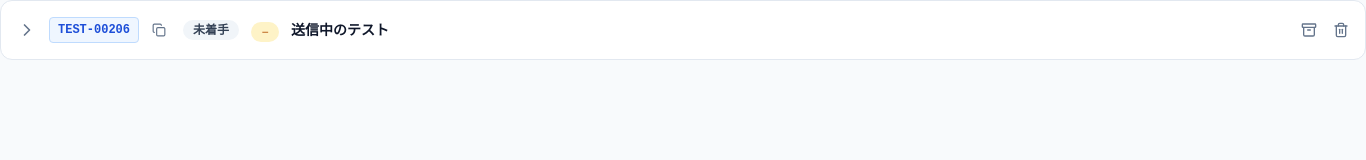
TicketItem close confirmation while submitting › closes the prompt on success and leaves nothing busy once the refresh finishes
Click the button named "クローズ（対応せず終了）" at point(1309, 30), box [1297,18,1321,42]
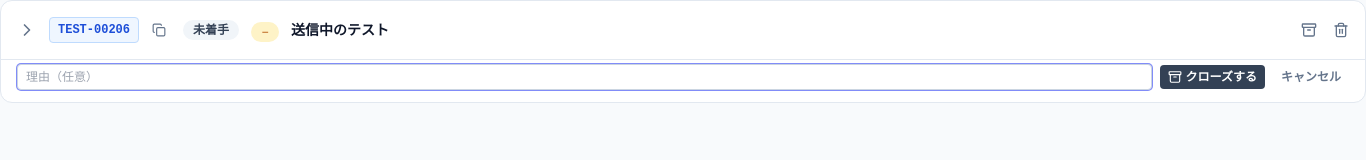
Click the button "クローズする" at point(1212, 77), box [1160,65,1265,89]
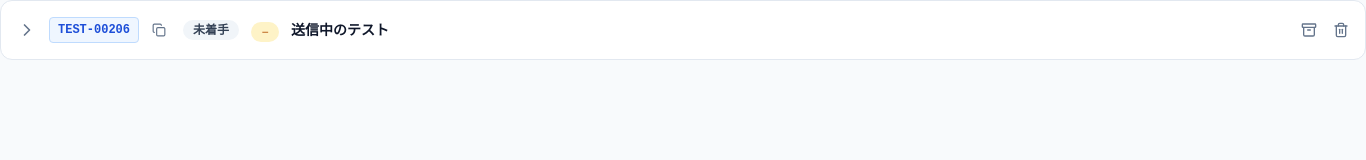
Result: the button "クローズする" is gone
